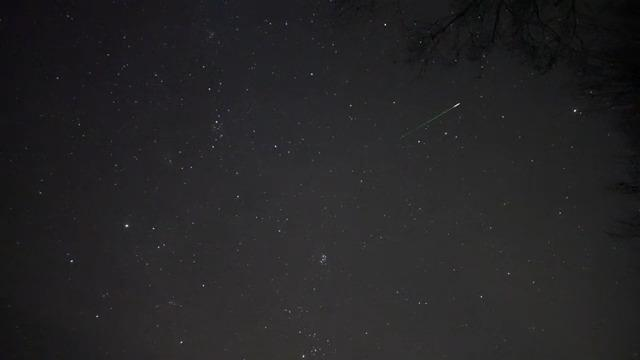meteorite: (387, 99, 476, 137)
